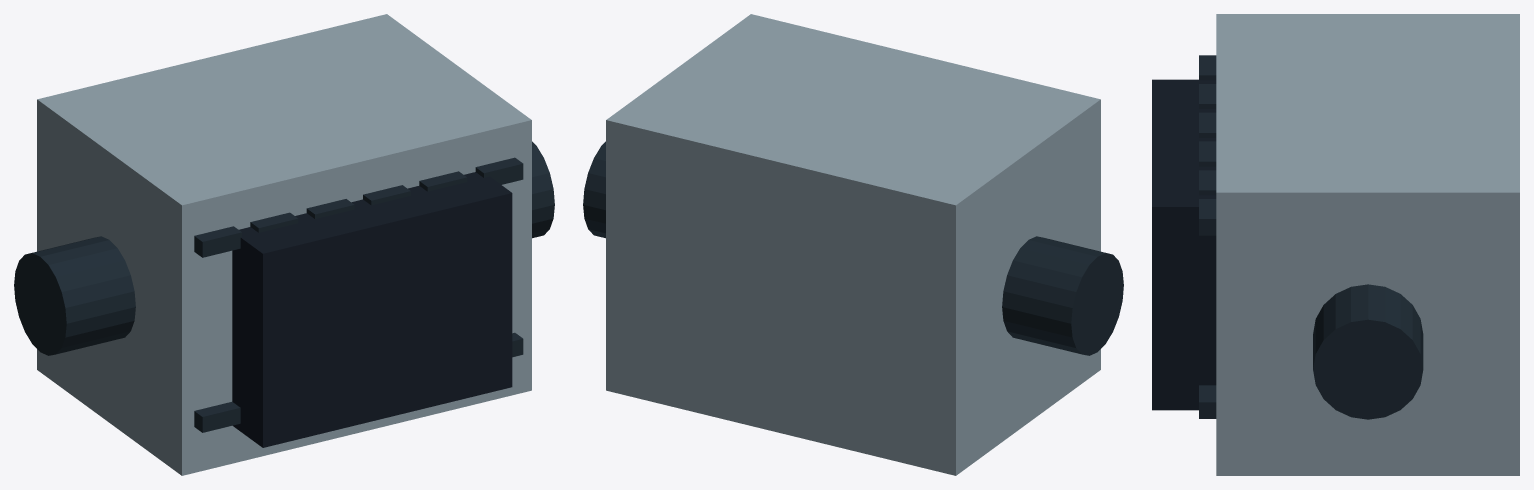
Rendered from 04_L84_SpacecraftAttitudeTestVehicle.fbx.
3 views of the same model, side by side, from view 1: azimuth 30°, elevation 25°; view 2: azimuth 150°, elevation 25°; view 3: azimuth 270°, elevation 25° (orthographic). The views are drawn at different scales.
Visible parts, largest first — view 1: L84_SpacecraftAttitudeTestVehicle_Part_0000, L84_SpacecraftAttitudeTestVehicle_Part_0001, L84_SpacecraftAttitudeTestVehicle_Part_0003; view 2: L84_SpacecraftAttitudeTestVehicle_Part_0000, L84_SpacecraftAttitudeTestVehicle_Part_0003; view 3: L84_SpacecraftAttitudeTestVehicle_Part_0000, L84_SpacecraftAttitudeTestVehicle_Part_0001, L84_SpacecraftAttitudeTestVehicle_Part_0003.
Part boxes in pixels (<box>): L84_SpacecraftAttitudeTestVehicle_Part_0000: <box>37,14,531,475</box>; L84_SpacecraftAttitudeTestVehicle_Part_0001: <box>232,172,512,447</box>; L84_SpacecraftAttitudeTestVehicle_Part_0003: <box>14,141,554,432</box>; L84_SpacecraftAttitudeTestVehicle_Part_0000: <box>606,14,1100,475</box>; L84_SpacecraftAttitudeTestVehicle_Part_0003: <box>583,141,1123,355</box>; L84_SpacecraftAttitudeTestVehicle_Part_0000: <box>1216,14,1519,475</box>; L84_SpacecraftAttitudeTestVehicle_Part_0001: <box>1152,79,1216,410</box>; L84_SpacecraftAttitudeTestVehicle_Part_0003: <box>1199,55,1423,419</box>.
Size of the model in its own units: 321 by 170 by 200.
